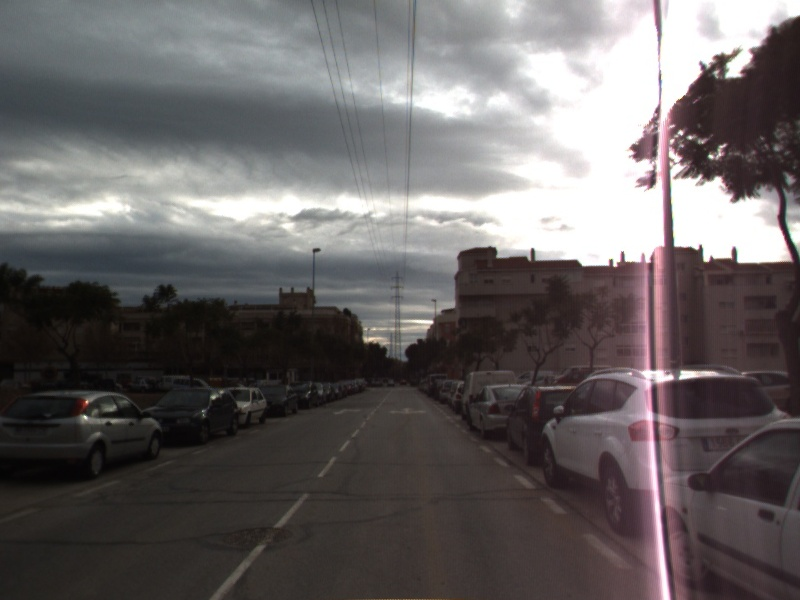STRAIGHT_LEFT_RIGHT: (386, 405, 429, 418)
